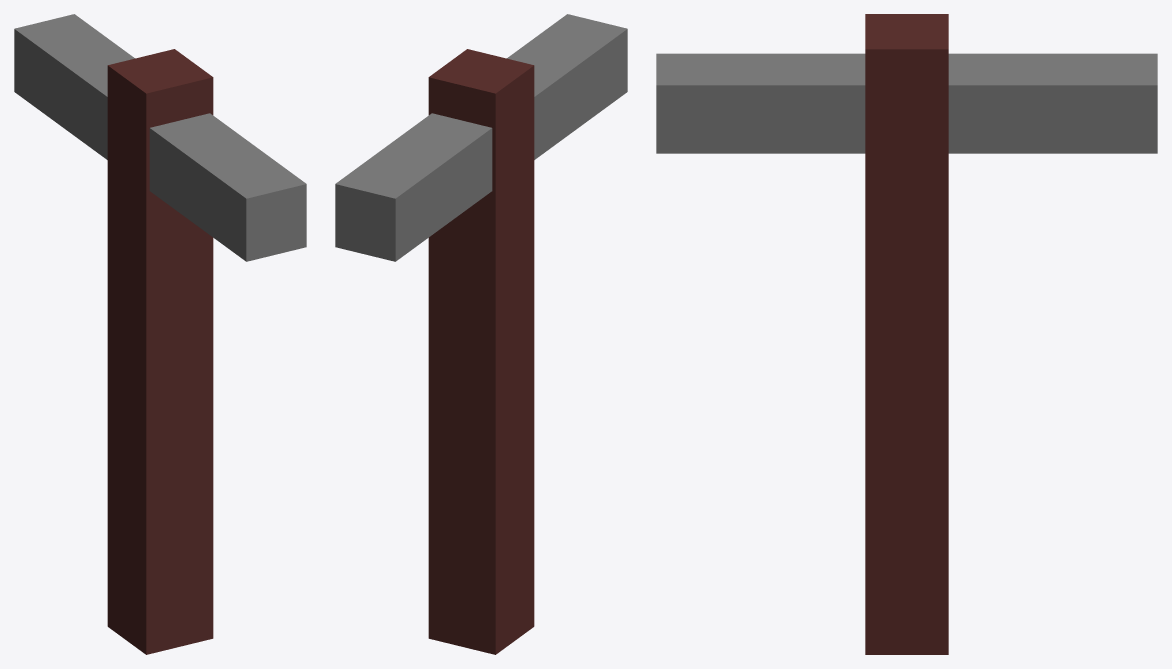
Rendered from test_pickaxe.gltf.
3 renders of one model, left to right at view 1: azimuth 30°, elevation 25°; view 2: azimuth 150°, elevation 25°; view 3: azimuth 270°, elevation 25°, orthographic. The views are drawn at different scales.
Parts seen in each view (by area): view 1: cube (×2); view 2: cube (×2); view 3: cube (×2).
Boxes of the visible parts, bbox=[...] form: cube (×2): bbox=[14, 14, 306, 654]; cube (×2): bbox=[335, 14, 627, 654]; cube (×2): bbox=[656, 14, 1157, 654].
Bounding box in the file's own units: 0.125 × 1 × 0.75.
1 material, 1 textured.
